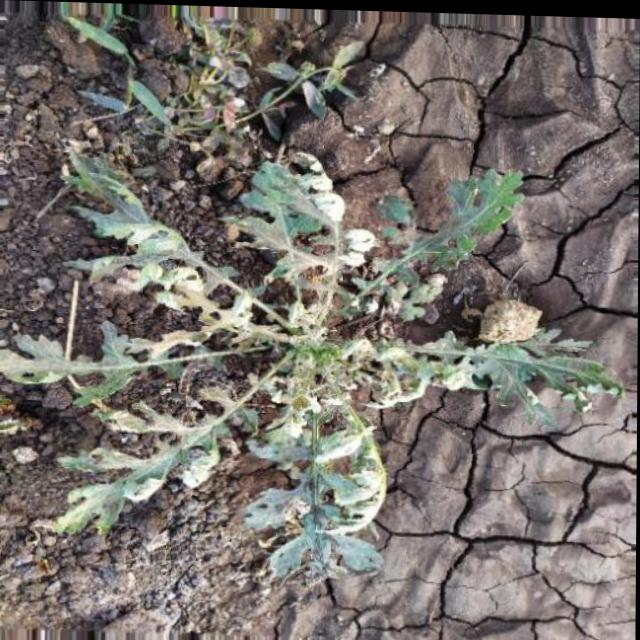weed: (21, 161, 624, 564)
